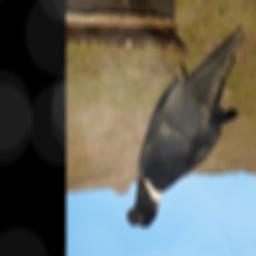Crow: (125, 24, 244, 235)
